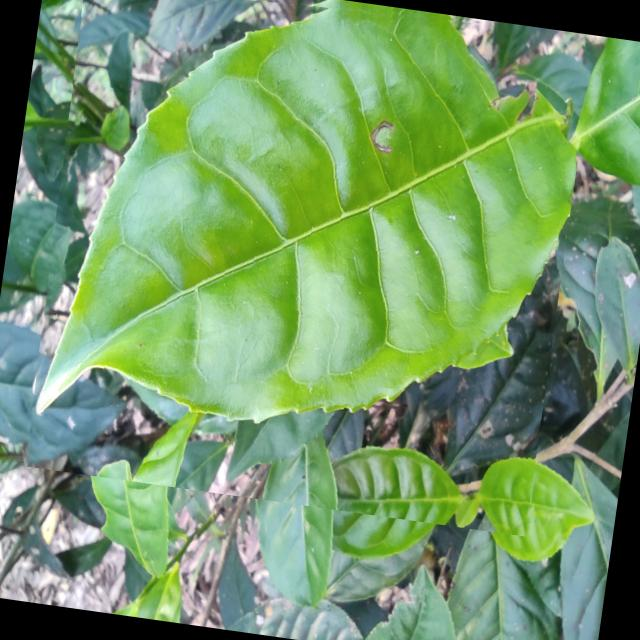Category D(7+ days, Not for Tea): (18, 0, 595, 536)
